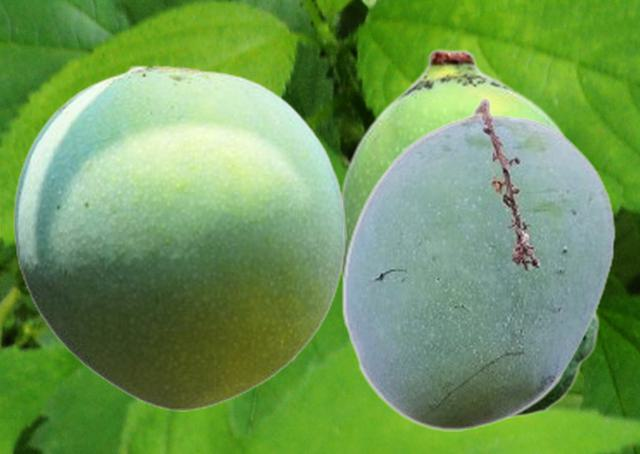green_mango: (13, 63, 345, 410), (340, 48, 599, 418), (341, 97, 615, 430)
